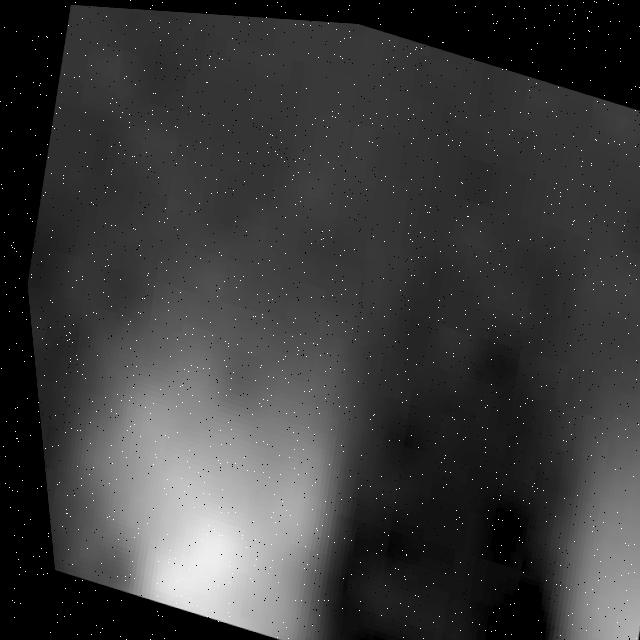person: (28, 305, 366, 640), (460, 312, 640, 640)
